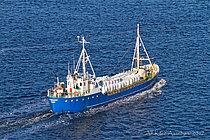Ship: (48, 26, 159, 115)
